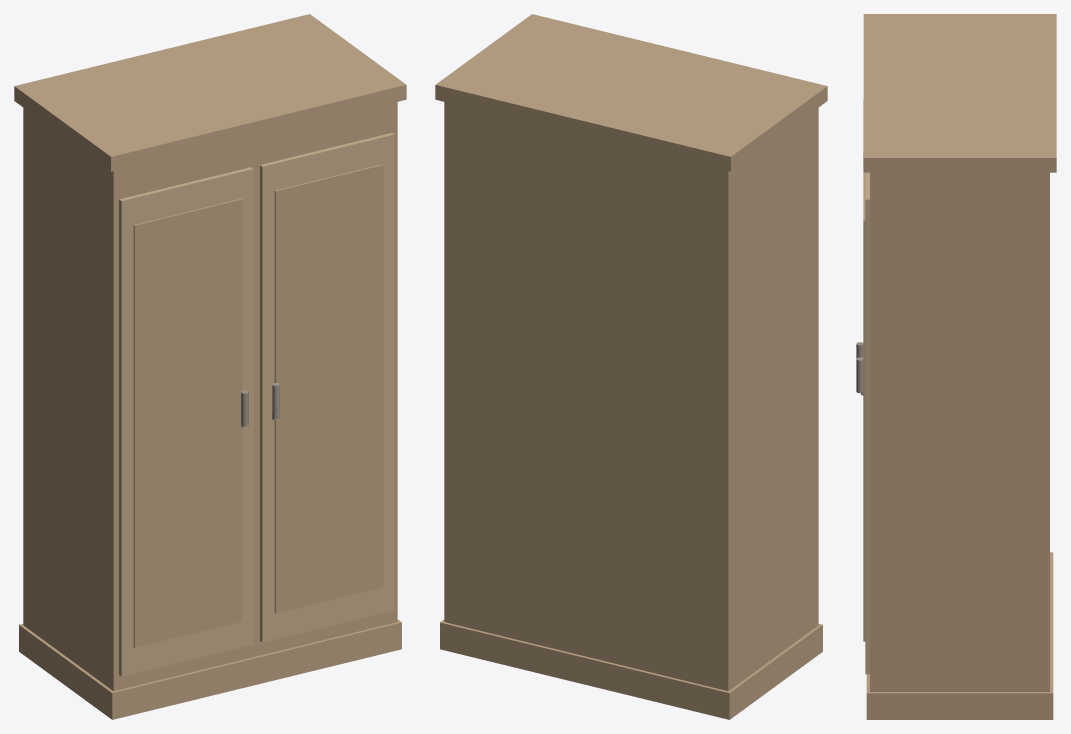
Rendered from container_wardrobe.glb.
3 views of the same model, side by side, from view 1: azimuth 30°, elevation 25°; view 2: azimuth 150°, elevation 25°; view 3: azimuth 270°, elevation 25° (orthographic).
Parts seen in each view (by area): view 1: Cwd_Body, Cwd_Panel-1, Cwd_Panel1, Cwd_Crown, Cwd_Door1, Cwd_Door-1, Cwd_Base; view 2: Cwd_Body, Cwd_Crown, Cwd_Base; view 3: Cwd_Body, Cwd_Crown, Cwd_Base, Cwd_Door1, Cwd_Panel1.
Boxes of the visible parts, x1,y1,x2,y2 form: Cwd_Body: (23, 102, 397, 691); Cwd_Panel-1: (133, 198, 242, 647); Cwd_Panel1: (274, 164, 383, 613); Cwd_Crown: (14, 14, 406, 171); Cwd_Door1: (260, 133, 394, 642); Cwd_Door-1: (119, 167, 253, 676); Cwd_Base: (19, 619, 401, 719); Cwd_Body: (444, 102, 818, 691); Cwd_Crown: (435, 14, 827, 171); Cwd_Base: (440, 619, 822, 719); Cwd_Body: (870, 172, 1049, 691); Cwd_Crown: (863, 14, 1056, 172); Cwd_Base: (866, 552, 1053, 719); Cwd_Door1: (865, 172, 869, 674); Cwd_Panel1: (863, 168, 865, 641).
Size of the model in its own units: 1.04 by 1.9 by 0.612.
